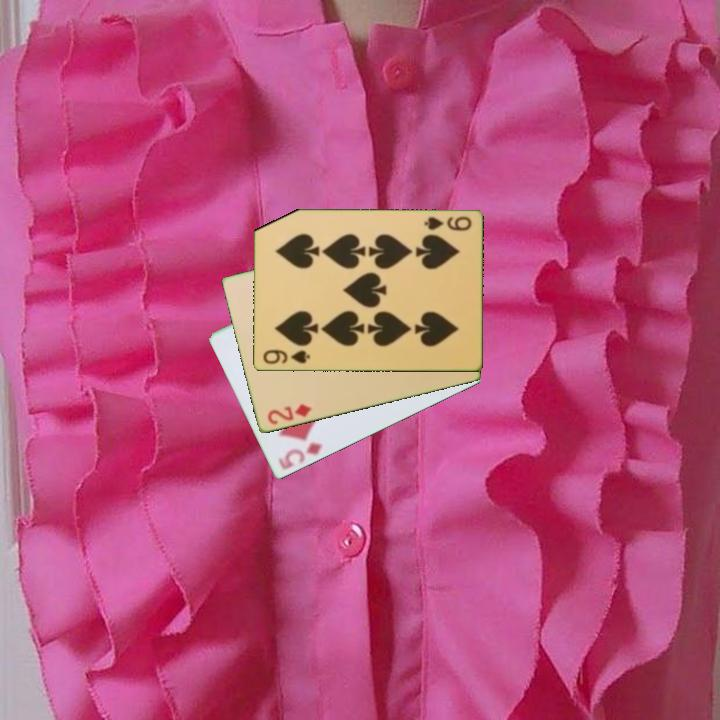2d: (264, 401, 314, 428)
5d: (275, 439, 325, 473)
9s: (259, 346, 313, 367), (420, 213, 474, 233)
